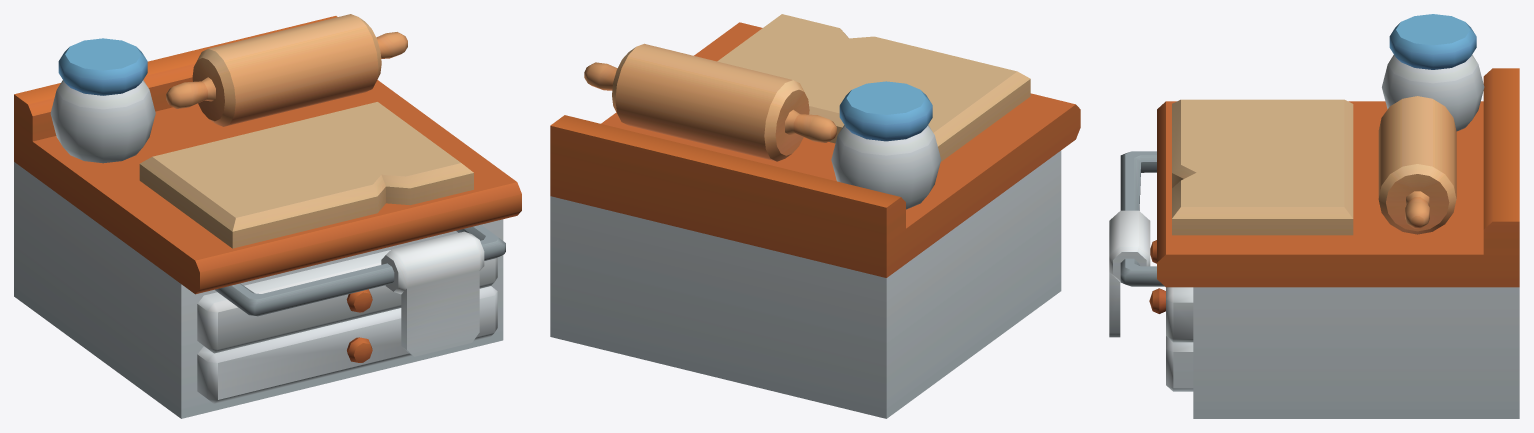
File: pin_counter.glb
3 renders of one model, left to right at view 1: azimuth 30°, elevation 25°; view 2: azimuth 150°, elevation 25°; view 3: azimuth 270°, elevation 25°, orthographic. The views are drawn at different scales.
Parts seen in each view (by area): view 1: kitchencounter_straight_A_backsplash, cuttingboard, rollingpin, towelrail, jar_A_small; view 2: kitchencounter_straight_A_backsplash, cuttingboard, rollingpin, jar_A_small; view 3: kitchencounter_straight_A_backsplash, cuttingboard, rollingpin, jar_A_small, towelrail.
Boxes of the visible parts, x1,y1,x2,y2 form: kitchencounter_straight_A_backsplash: [14, 16, 521, 418]; cuttingboard: [139, 102, 473, 248]; rollingpin: [166, 14, 407, 126]; towelrail: [215, 224, 505, 356]; jar_A_small: [50, 38, 155, 163]; kitchencounter_straight_A_backsplash: [550, 22, 1080, 418]; cuttingboard: [717, 14, 1030, 161]; rollingpin: [584, 43, 836, 161]; jar_A_small: [831, 81, 940, 209]; kitchencounter_straight_A_backsplash: [1149, 68, 1519, 418]; cuttingboard: [1172, 99, 1353, 235]; rollingpin: [1378, 96, 1456, 234]; jar_A_small: [1382, 14, 1484, 131]; towelrail: [1109, 151, 1164, 337].
Size of the model in its own units: 2.11 by 1.56 by 2.26.
Materials: 5 (5 with a texture image).
